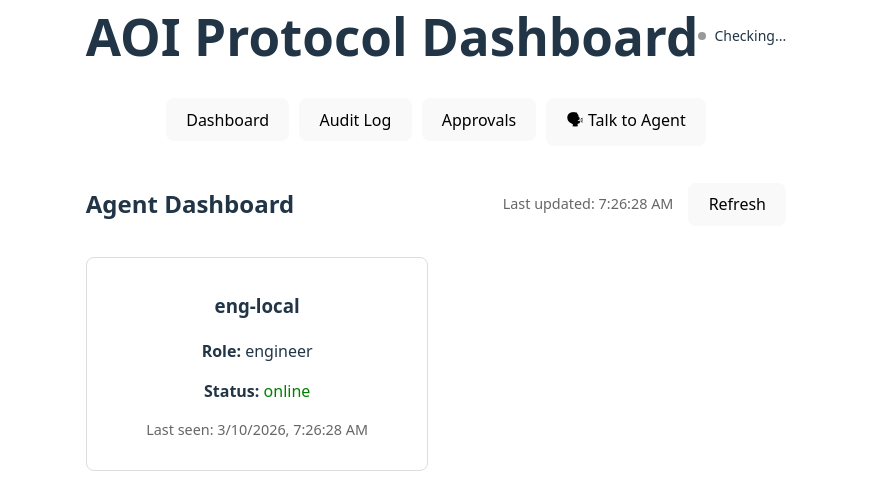
Test case: App Component › Mock Data › has no approval requests by default
Click the button "Approvals": (479, 120) left=422, top=98, right=536, bottom=141
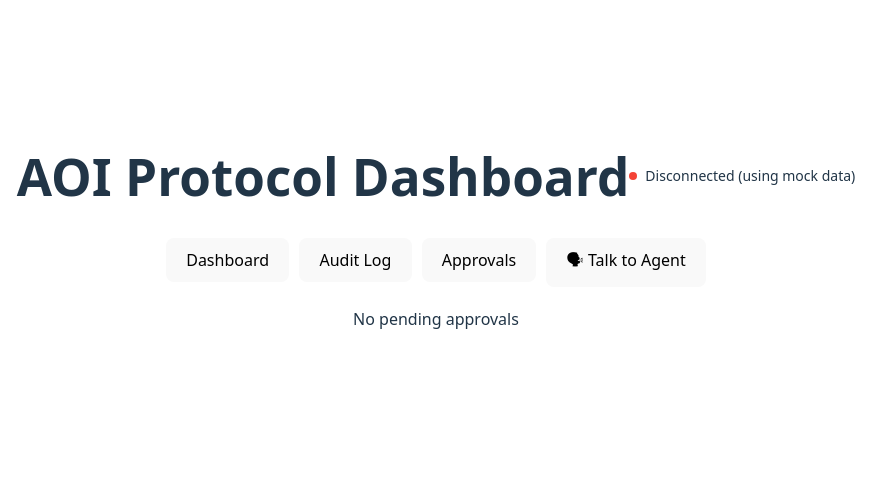
expect the text "No pending approvals" is shown: met, box left=353, top=308, right=519, bottom=330
